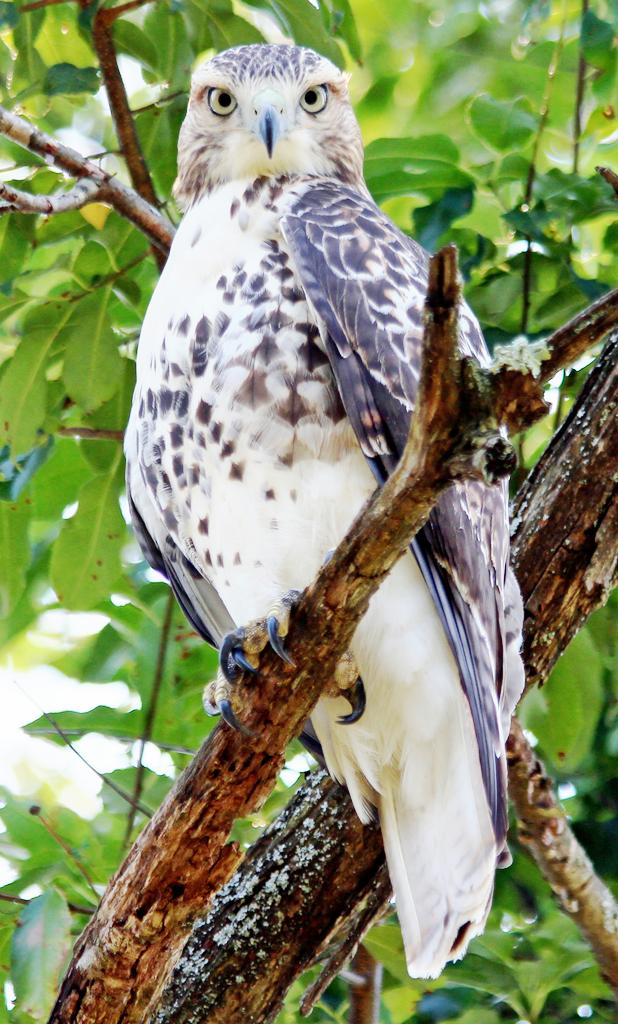Owl: (123, 43, 531, 981)
